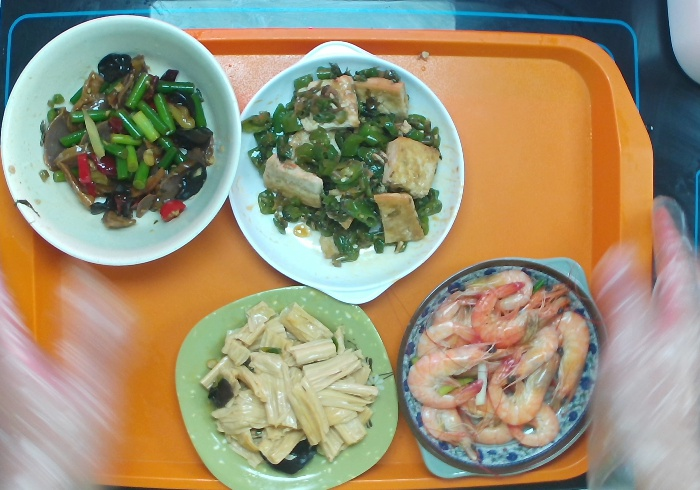NLDX-Bai_Se_Shuang_Er_Die: (221, 36, 468, 309)
NLDX-Bai_Se_Yuan_Wan: (1, 10, 248, 272)
NLDX-Lv_Hua_Fang_Die: (169, 278, 403, 490)
NLDX-Qing_Hua_Shuang_Er_Die: (391, 250, 605, 482)
